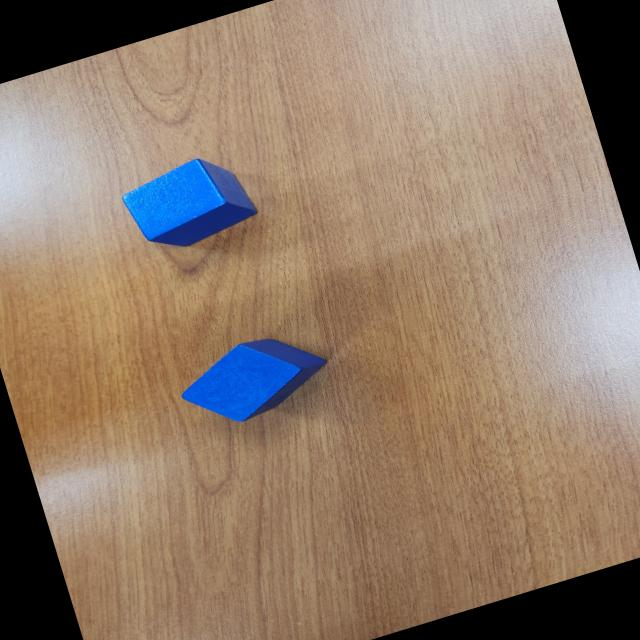blue: (171, 322, 337, 436), (116, 146, 262, 260)
